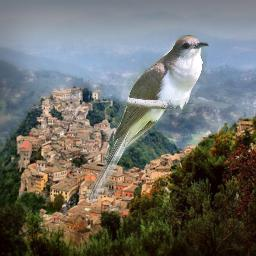Cuckoo: (85, 35, 209, 203)
